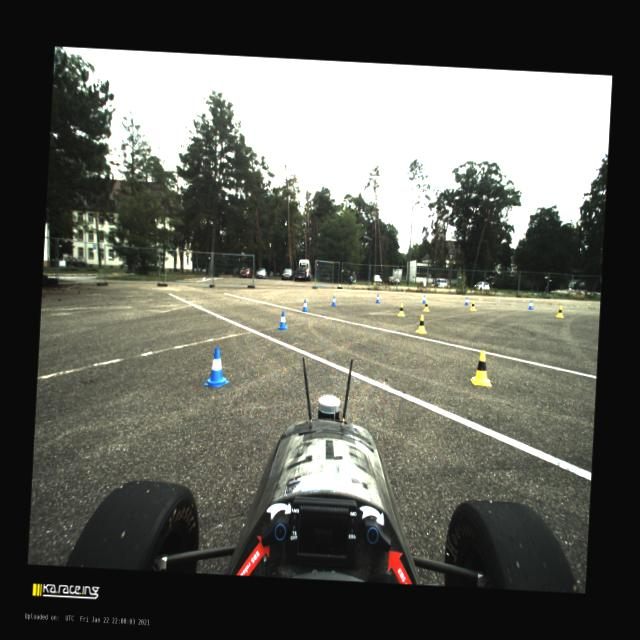blue_cone: (204, 347, 232, 388), (278, 310, 289, 330), (302, 298, 308, 312), (331, 295, 337, 306), (528, 301, 534, 310), (376, 294, 380, 304), (464, 296, 468, 306), (422, 296, 426, 304)
yellow_cone: (470, 350, 493, 386), (416, 315, 428, 334), (398, 303, 406, 317), (422, 300, 430, 312), (556, 306, 564, 317), (470, 300, 477, 310)
